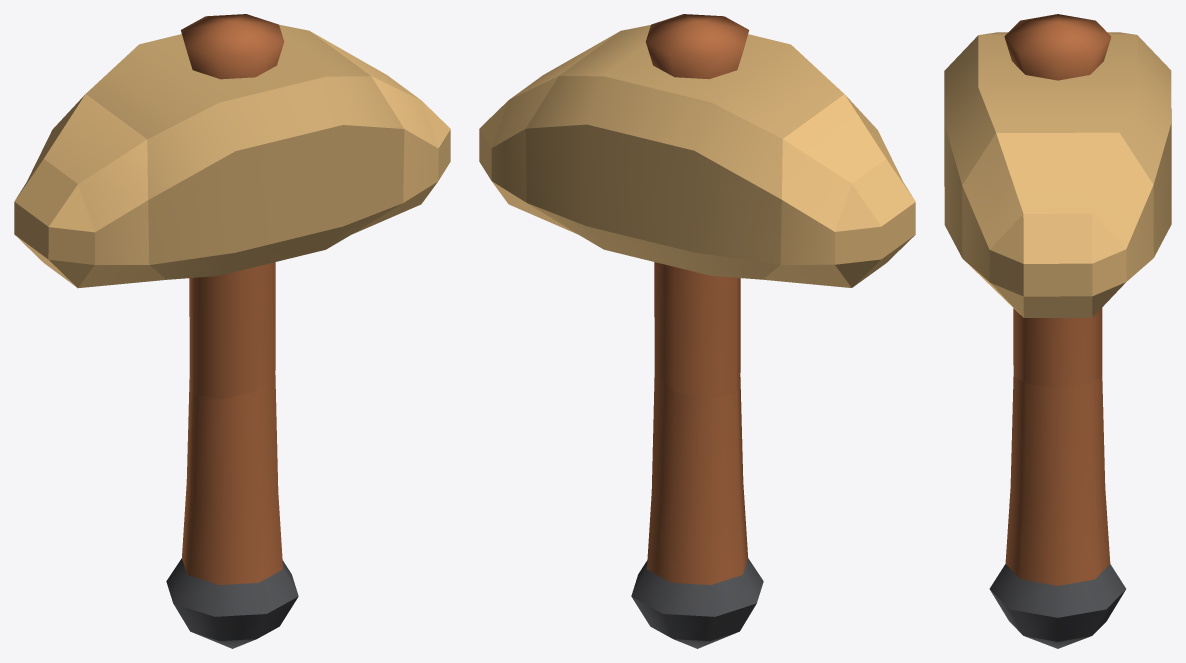
File: Axe_LHand_8.fbx
The picture shows the model from 3 angles, left to right: view 1: azimuth 30°, elevation 25°; view 2: azimuth 150°, elevation 25°; view 3: azimuth 270°, elevation 25°; orthographic projection.
Parts seen in each view (by area): view 1: Axe_LHand_8; view 2: Axe_LHand_8; view 3: Axe_LHand_8.
Boxes of the visible parts, bbox=[...] form: Axe_LHand_8: bbox=[14, 14, 450, 648]; Axe_LHand_8: bbox=[479, 14, 915, 648]; Axe_LHand_8: bbox=[944, 14, 1171, 648].
Bounding box in the file's own units: 35.24 × 52.52 × 17.26.
